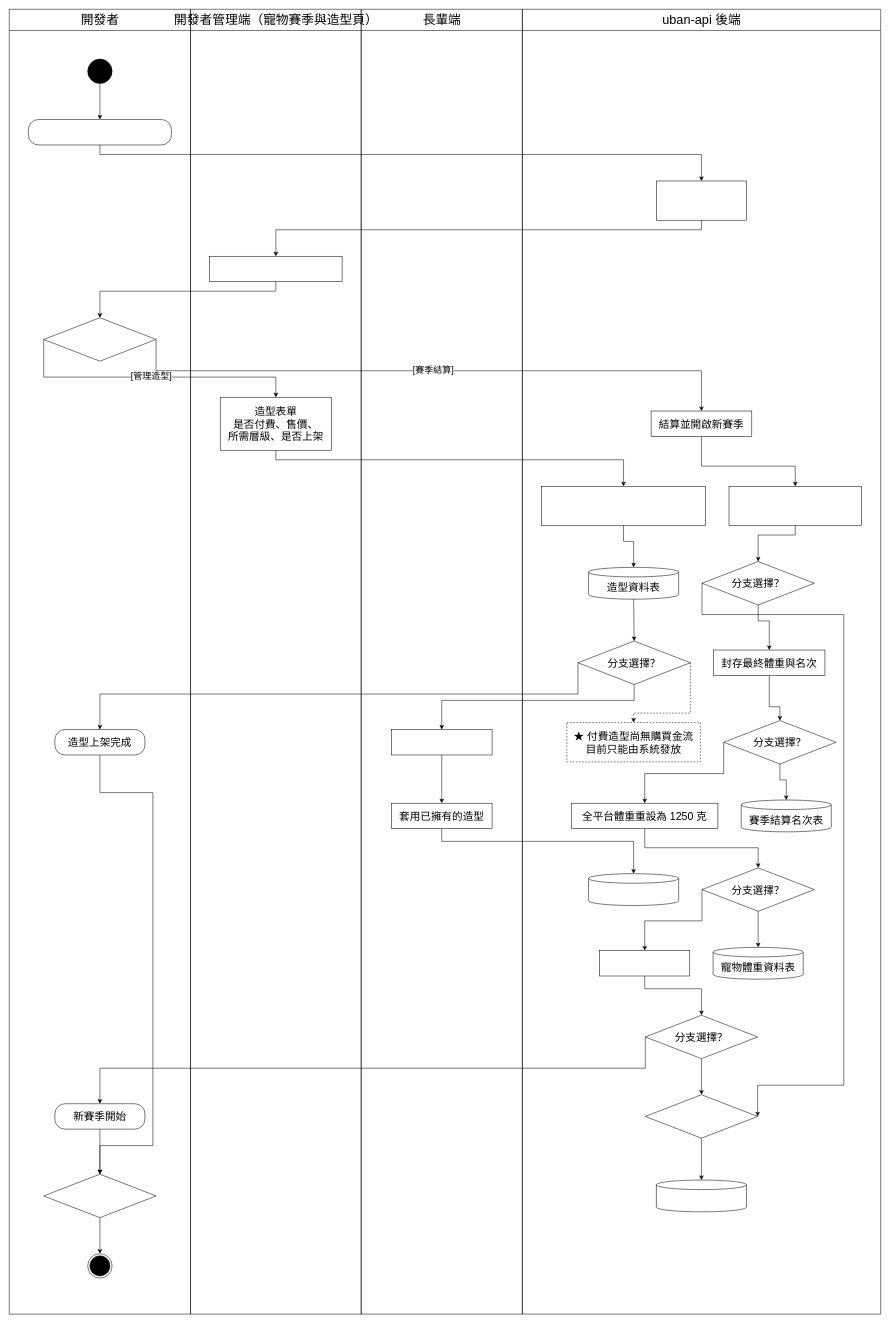
Some shapes in this 890 by 1323 pixel diagram are drawn without their labels. The centre of each missing label's shape, as x and y in pixels:
原子更新賽季狀態 （重複執行只生效一次）: (x=795, y=505)
取得上架造型清單: (x=441, y=742)
查詢、新增造型 更新售價、所需層級、上架狀態: (x=623, y=505)
查詢賽季清單 與結算名次: (x=701, y=200)
要做什麼？: (x=99, y=339)
賽季資料表: (x=701, y=1196)
造型擁有紀錄表: (x=633, y=889)
進入『寵物賽季與皮膚』頁: (x=99, y=132)
開啟新賽季: (x=644, y=963)
顯示賽季清單與結算明細: (x=275, y=269)
